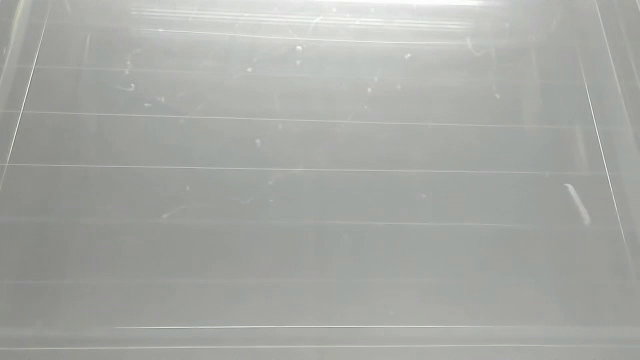alpha: (561, 180, 595, 227)
